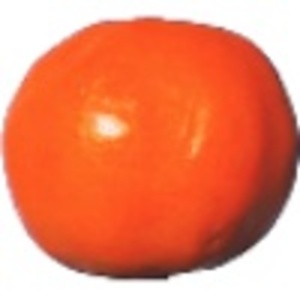tangerina: (2, 15, 300, 283)
